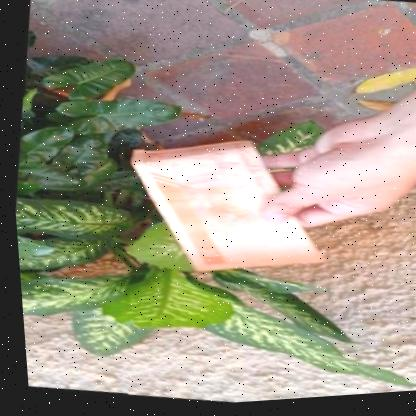twenty-back-vef: (108, 123, 340, 297)
